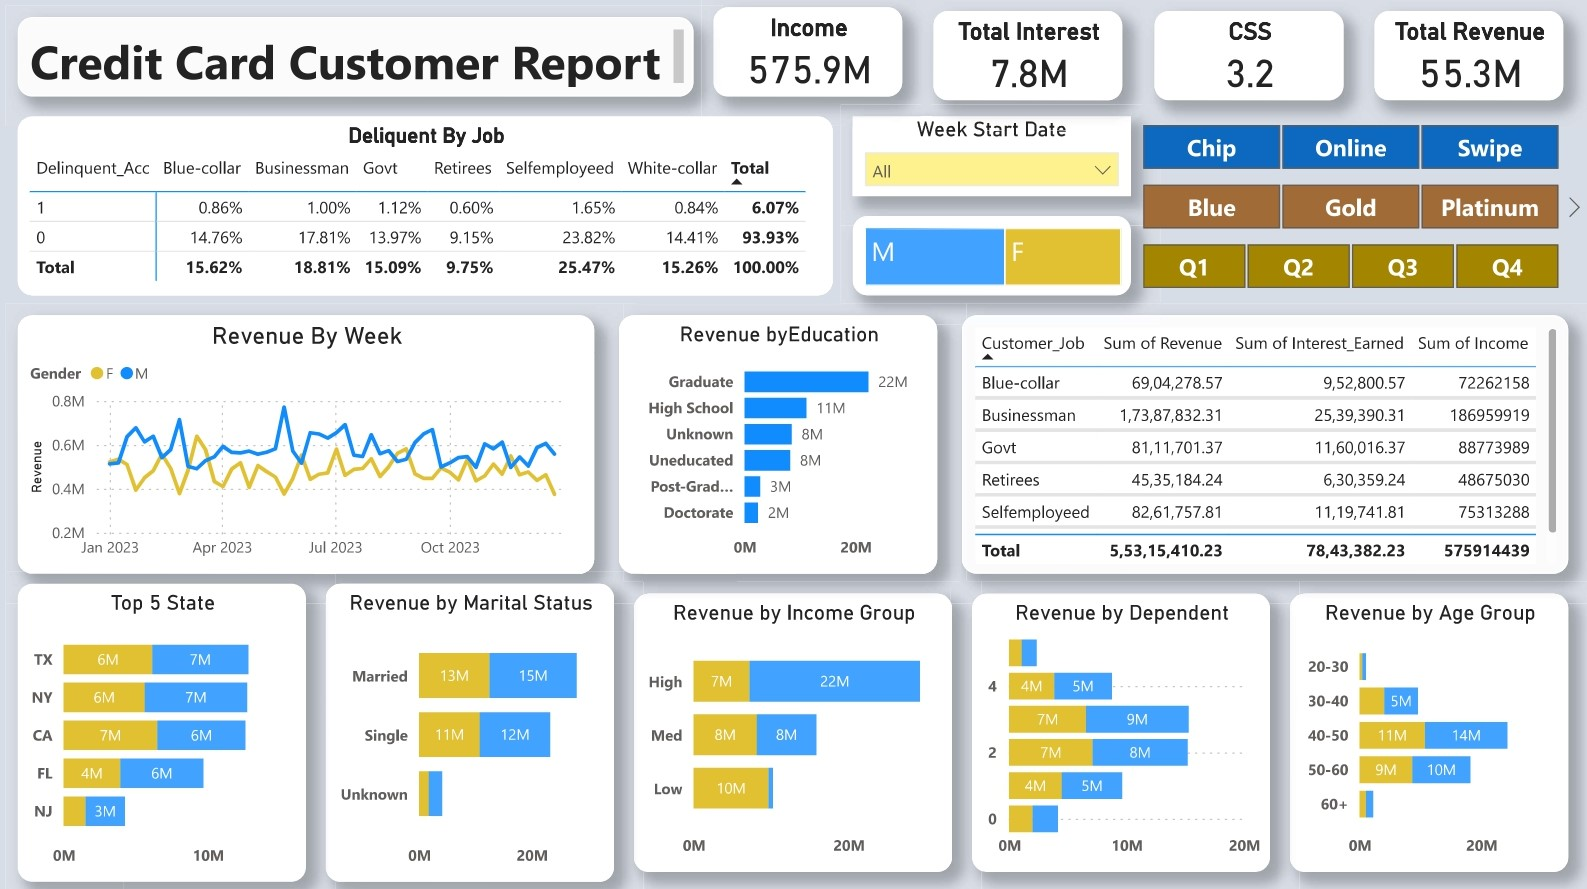

The page's visual inventory and layout, read from the dashboard file:
{"tool":"powerbi","page":{"name":"CC Customer","canvas":[1280,720],"ordinal":2},"visuals":[{"type":"barChart","title":"Revenue by  Income Group","fields":{"Y":["Sum(credit_card.Revenue)"],"Category":["customer.Income_Group"],"Series":["customer.Gender"]},"box":[512,480,256,224],"z":0},{"type":"slicer","title":"Week Start Date","fields":{"Values":["credit_card.Week_Start_Date"]},"box":[688,96,224,64],"z":1000},{"type":"card","title":"Total Revenue","fields":{"Values":["Sum(credit_card.Revenue)"]},"box":[1107.8,10.7,152,72],"z":2000},{"type":"card","title":"CSS","fields":{"Values":["Avg(customer.Cust_Satisfaction_Score)"]},"box":[930.6,10.7,152,72],"z":3000},{"type":"card","title":"Income","fields":{"Values":["Sum(customer.Income)"]},"box":[576,8,152,72],"z":4000},{"type":"card","title":"Total Interest","fields":{"Values":["Sum(credit_card.Interest_Earned)"]},"box":[753.3,10.7,152,72],"z":5000},{"type":"lineChart","title":"Revenue By Week","fields":{"Y":["Sum(credit_card.Revenue)"],"Series":["customer.Gender"],"Category":["credit_card.Week_Start_Date.Variation.Date Hierarchy.Year","credit_card.Week_Start_Date.Variation.Date Hierarchy.Quarter","credit_card.Week_Start_Date.Variation.Date Hierarchy.Month","credit_card.Week_Start_Date.Variation.Date Hierarchy.Day"]},"box":[16,256,464,208],"z":6000},{"type":"treemap","fields":{"Group":["customer.Gender"],"Values":["Sum(credit_card.Revenue)"]},"box":[688,176,224,64],"z":7000},{"type":"barChart","title":"Revenue by Age Group","fields":{"Y":["Sum(credit_card.Revenue)"],"Category":["customer.AgeGroup"],"Series":["customer.Gender"]},"box":[1040,480,224,224],"z":8000},{"type":"barChart","title":"Revenue byEducation","fields":{"Y":["Sum(credit_card.Revenue)"],"Category":["customer.Education_Level"]},"box":[500,256,256,208],"z":9000},{"type":"tableEx","fields":{"Values":["customer.Customer_Job","Sum(credit_card.Revenue)","Sum(credit_card.Interest_Earned)","Sum(customer.Income)"]},"box":[776,256,488,208],"z":10000},{"type":"barChart","title":"Revenue by Dependent","fields":{"Y":["Sum(credit_card.Revenue)"],"Category":["customer.Dependent_Count"],"Series":["customer.Gender"]},"box":[784,480,240,224],"z":11000},{"type":"barChart","title":"Revenue by Marital Status","fields":{"Y":["Sum(credit_card.Revenue)"],"Category":["customer.Marital_Status"],"Series":["customer.Gender"]},"box":[264,472,232,240],"z":12000},{"type":"barChart","title":"Top 5 State","fields":{"Y":["Sum(credit_card.Revenue)"],"Category":["customer.state_cd"],"Series":["customer.Gender"]},"box":[16,472,232,240],"z":13000},{"type":"slicer","fields":{"Values":["credit_card.Card_Category"]},"box":[896,144,384,48],"z":14000},{"type":"slicer","fields":{"Values":["credit_card.Use Chip"]},"box":[896,96,384,48],"z":15000},{"type":"slicer","fields":{"Values":["credit_card.Qtr"]},"box":[896,192,384,48],"z":16000},{"type":"textbox","box":[16,16,544,64],"z":17000},{"type":"pivotTable","title":"Deliquent By Job","fields":{"Rows":["credit_card.Delinquent_Acc"],"Values":["Sum(credit_card.Delinquent_Acc)"],"Columns":["customer.Customer_Job"]},"box":[16,96,656,144],"z":18000}]}

Visuals, with their boxes in screenshot pixels (x1, y1, x2, y2), scaled from the page's 1280x720 canvas onto the 1587x889 screenshot:
"Revenue by  Income Group" barChart: [x1=635, y1=593, x2=952, y2=869]
"Week Start Date" slicer: [x1=853, y1=119, x2=1131, y2=198]
"Total Revenue" card: [x1=1373, y1=13, x2=1562, y2=102]
"CSS" card: [x1=1154, y1=13, x2=1342, y2=102]
"Income" card: [x1=714, y1=10, x2=903, y2=99]
"Total Interest" card: [x1=934, y1=13, x2=1122, y2=102]
"Revenue By Week" lineChart: [x1=20, y1=316, x2=595, y2=573]
treemap - customer.Gender x Sum(credit_card.Revenue): [x1=853, y1=217, x2=1131, y2=296]
"Revenue by Age Group" barChart: [x1=1289, y1=593, x2=1567, y2=869]
"Revenue byEducation" barChart: [x1=620, y1=316, x2=937, y2=573]
tableEx - customer.Customer_Job x Sum(credit_card.Revenue): [x1=962, y1=316, x2=1567, y2=573]
"Revenue by Dependent" barChart: [x1=972, y1=593, x2=1270, y2=869]
"Revenue by Marital Status" barChart: [x1=327, y1=583, x2=615, y2=879]
"Top 5 State" barChart: [x1=20, y1=583, x2=307, y2=879]
slicer - credit_card.Card_Category: [x1=1111, y1=178, x2=1586, y2=237]
slicer - credit_card.Use Chip: [x1=1111, y1=119, x2=1586, y2=178]
slicer - credit_card.Qtr: [x1=1111, y1=237, x2=1586, y2=296]
textbox: [x1=20, y1=20, x2=694, y2=99]
"Deliquent By Job" pivotTable: [x1=20, y1=119, x2=833, y2=296]
